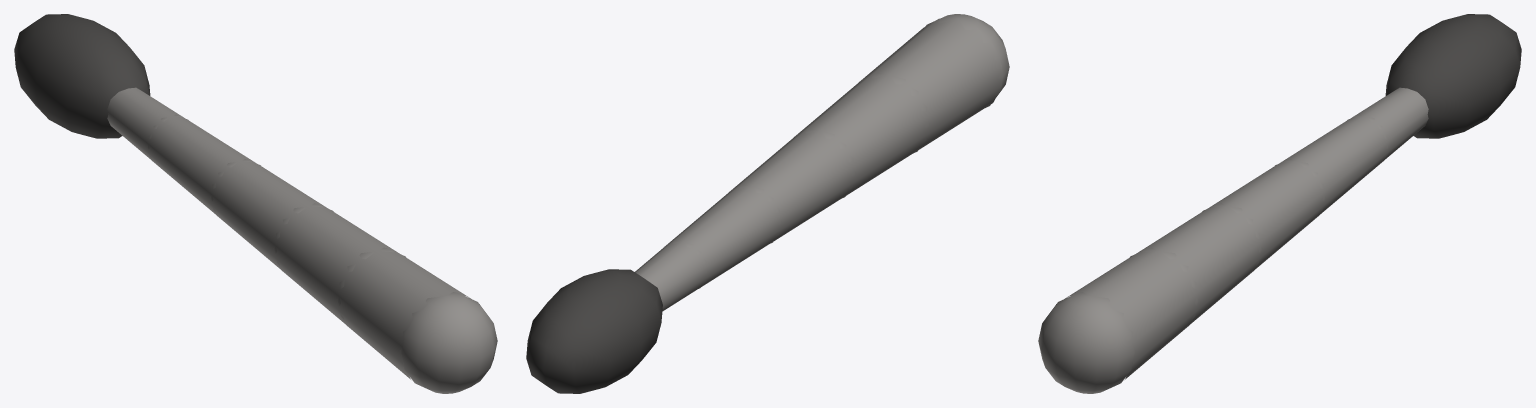
File: elephant_tail.glb
3 renders of one model, left to right at view 1: azimuth 30°, elevation 25°; view 2: azimuth 150°, elevation 25°; view 3: azimuth 330°, elevation 25°, orthographic.
Visible parts, largest first — view 1: elephant_tail_seg01, elephant_tail_seg05, elephant_tail_seg02, elephant_tail_seg03, elephant_tail_seg04; view 2: elephant_tail_seg05, elephant_tail_seg01, elephant_tail_seg02, elephant_tail_seg03, elephant_tail_seg04; view 3: elephant_tail_seg01, elephant_tail_seg05, elephant_tail_seg02, elephant_tail_seg03, elephant_tail_seg04.
Boxes of the visible parts, x1=… form: elephant_tail_seg01: x1=338, y1=250, x2=497, y2=393; elephant_tail_seg05: x1=14, y1=14, x2=188, y2=159; elephant_tail_seg02: x1=274, y1=205, x2=406, y2=323; elephant_tail_seg03: x1=211, y1=160, x2=333, y2=268; elephant_tail_seg04: x1=147, y1=115, x2=260, y2=214; elephant_tail_seg05: x1=526, y1=240, x2=708, y2=393; elephant_tail_seg01: x1=858, y1=14, x2=1009, y2=149; elephant_tail_seg02: x1=794, y1=72, x2=930, y2=194; elephant_tail_seg03: x1=729, y1=128, x2=855, y2=240; elephant_tail_seg04: x1=664, y1=184, x2=781, y2=286; elephant_tail_seg01: x1=1038, y1=250, x2=1197, y2=393; elephant_tail_seg05: x1=1347, y1=14, x2=1521, y2=159; elephant_tail_seg02: x1=1129, y1=205, x2=1261, y2=323; elephant_tail_seg03: x1=1202, y1=160, x2=1324, y2=268; elephant_tail_seg04: x1=1275, y1=115, x2=1388, y2=214.
Bounding box in the file's own units: 0.1261 × 0.1261 × 1.01.
Materials: 1 (1 with a texture image).
